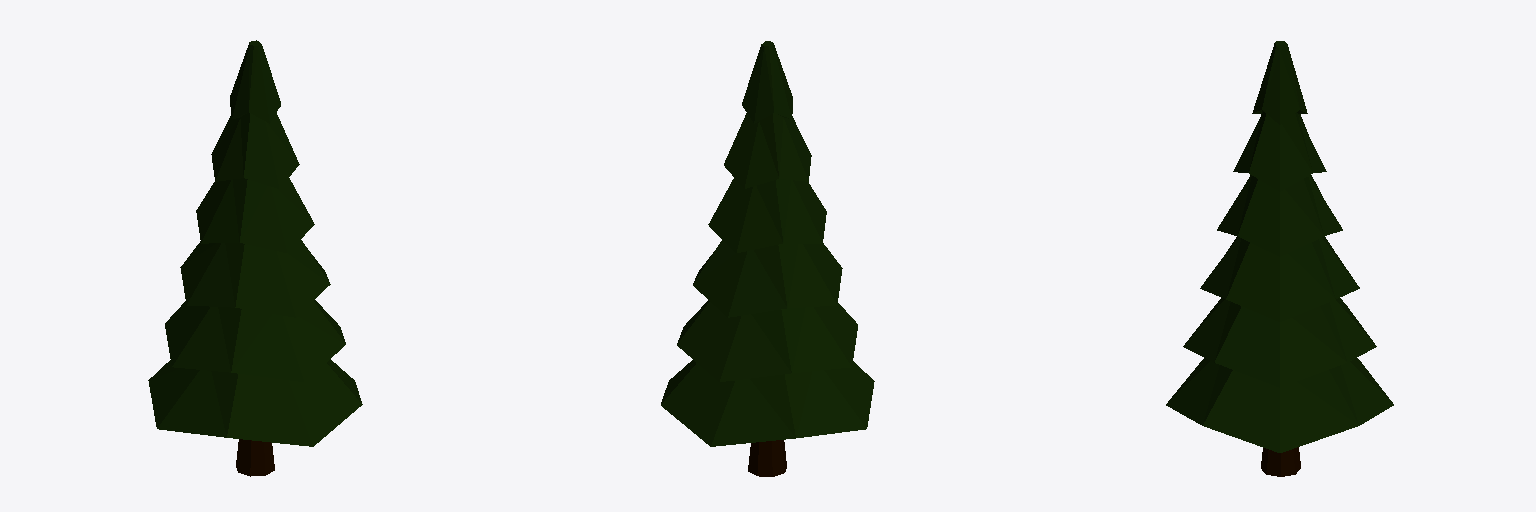
Rendered from tree.obj.
The picture shows the model from 3 angles: view 1: azimuth 30°, elevation 25°; view 2: azimuth 150°, elevation 25°; view 3: azimuth 270°, elevation 25°; orthographic projection.
Visible parts, largest first — view 1: Cylinder_Cylinder.001, Cylinder.001_Cylinder.002; view 2: Cylinder_Cylinder.001, Cylinder.001_Cylinder.002; view 3: Cylinder_Cylinder.001, Cylinder.001_Cylinder.002.
Boxes of the visible parts, x1,y1,x2,y2 form: Cylinder_Cylinder.001: [148, 40, 362, 446]; Cylinder.001_Cylinder.002: [236, 439, 274, 476]; Cylinder_Cylinder.001: [661, 41, 874, 446]; Cylinder.001_Cylinder.002: [748, 440, 786, 476]; Cylinder_Cylinder.001: [1166, 41, 1393, 452]; Cylinder.001_Cylinder.002: [1261, 447, 1300, 476].
Bounding box in the file's own units: 3.68 × 7.54 × 3.68.